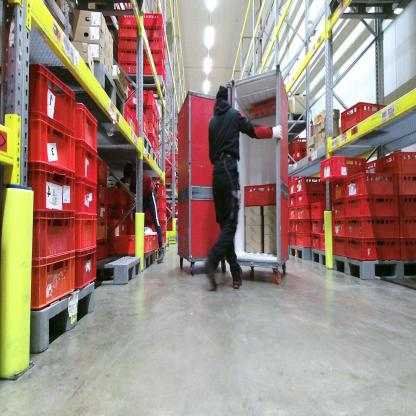pallet: (29, 278, 96, 355), (64, 59, 125, 117), (332, 250, 414, 288), (94, 128, 152, 160), (326, 2, 403, 25), (94, 255, 141, 291), (124, 68, 168, 101), (101, 144, 160, 167), (71, 2, 144, 14), (285, 109, 311, 133), (289, 243, 310, 264), (309, 247, 329, 269), (142, 250, 154, 272), (155, 246, 163, 262)
small_load_carrier: (30, 60, 75, 133), (25, 116, 79, 175), (28, 201, 76, 266), (31, 255, 77, 312), (27, 162, 78, 211), (340, 99, 390, 135), (345, 211, 400, 242), (346, 169, 400, 199), (364, 149, 416, 178), (346, 189, 399, 217), (317, 156, 369, 184), (74, 95, 98, 154), (347, 236, 401, 262), (74, 175, 100, 222), (243, 179, 279, 209), (75, 213, 99, 255), (77, 249, 100, 290), (77, 144, 97, 183), (126, 101, 156, 125), (296, 172, 328, 194), (127, 90, 156, 114), (116, 235, 152, 254), (125, 104, 142, 141), (296, 190, 329, 208), (118, 184, 139, 207), (399, 193, 416, 219), (143, 49, 164, 69), (136, 102, 148, 137), (400, 237, 416, 262), (140, 11, 162, 29), (143, 25, 165, 43), (105, 184, 123, 206), (289, 146, 312, 163), (399, 214, 415, 238), (397, 173, 415, 194), (117, 48, 139, 65), (143, 36, 165, 53), (96, 158, 111, 182), (289, 137, 310, 154), (331, 217, 347, 239), (330, 177, 346, 199), (118, 11, 141, 26), (332, 199, 346, 223), (118, 25, 139, 41), (117, 34, 138, 50), (142, 62, 165, 76), (319, 232, 333, 254), (108, 215, 120, 240), (107, 235, 120, 258), (115, 62, 139, 74), (295, 219, 312, 235), (98, 182, 111, 202), (297, 233, 313, 249), (149, 181, 165, 197), (311, 218, 325, 236), (333, 235, 346, 254), (297, 205, 312, 221), (97, 214, 107, 238), (150, 205, 164, 222), (96, 238, 107, 259), (150, 196, 165, 209), (311, 230, 321, 249), (98, 202, 109, 219), (311, 204, 324, 218), (149, 221, 164, 233), (288, 204, 298, 221), (165, 156, 178, 169), (147, 131, 155, 149), (289, 178, 297, 195), (288, 218, 297, 233), (147, 120, 156, 135), (151, 233, 159, 249), (288, 233, 297, 245), (165, 169, 178, 177), (161, 221, 168, 234), (290, 194, 296, 209), (161, 232, 167, 245), (165, 177, 176, 184), (163, 210, 168, 220)
